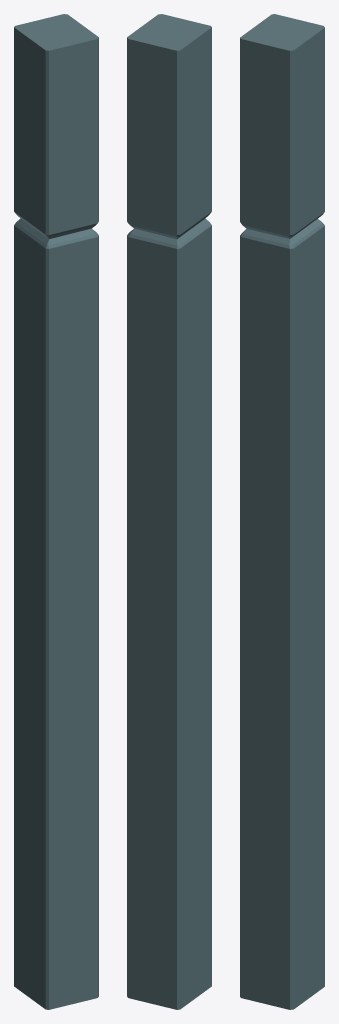
The model's file is Pillar.glb.
The picture shows the model from 3 angles, left to right: view 1: azimuth 30°, elevation 25°; view 2: azimuth 150°, elevation 25°; view 3: azimuth 330°, elevation 25°; orthographic projection.
Visible parts, largest first — view 1: Pillar-col; view 2: Pillar-col; view 3: Pillar-col.
Boxes of the visible parts, x1,y1,x2,y2 form: Pillar-col: (14,14,98,1009); Pillar-col: (127,14,211,1009); Pillar-col: (240,14,324,1009).
Bounding box in the file's own units: 0.2481 × 4.25 × 0.2736.
1 material, 1 textured.
